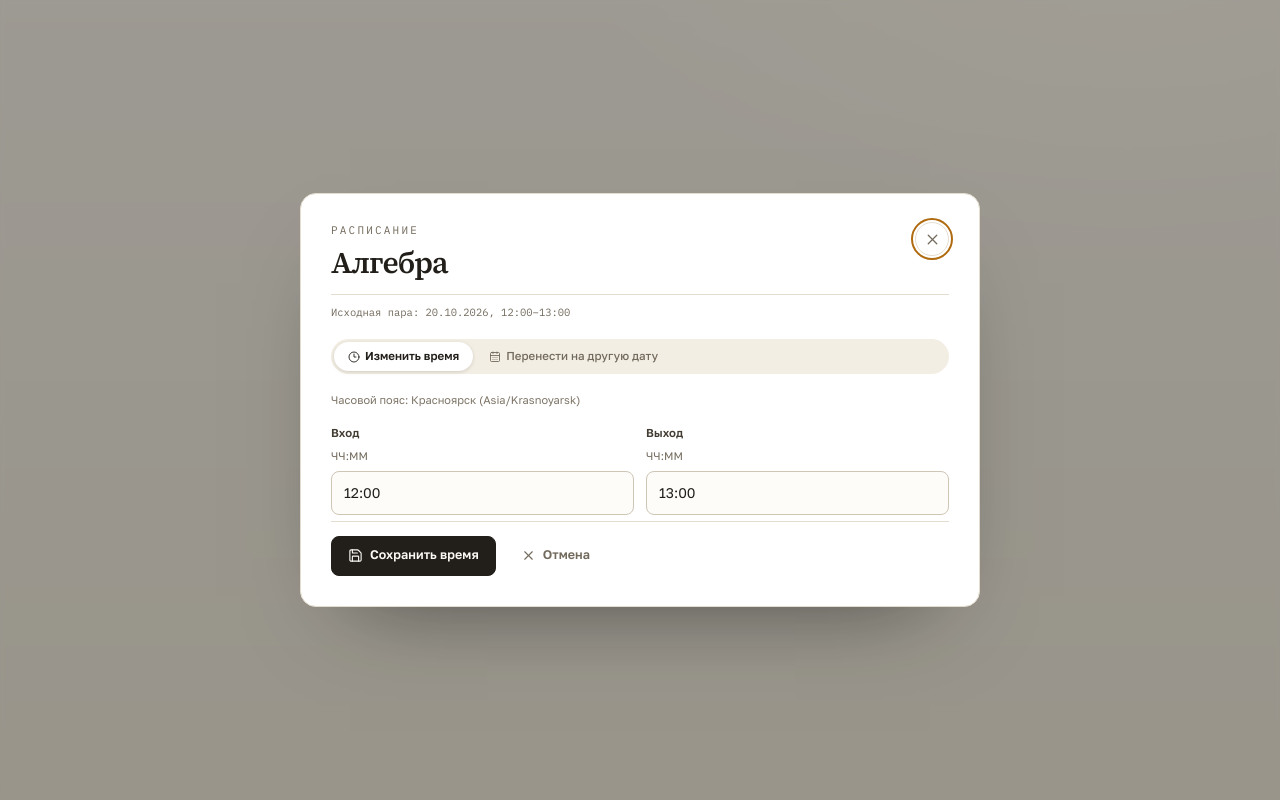
ScheduleEditor › moves to a new date and shows a field error for an invalid interval
Click the button "Перенести на другую дату" at x=574, y=357, box [475,342,672,371]
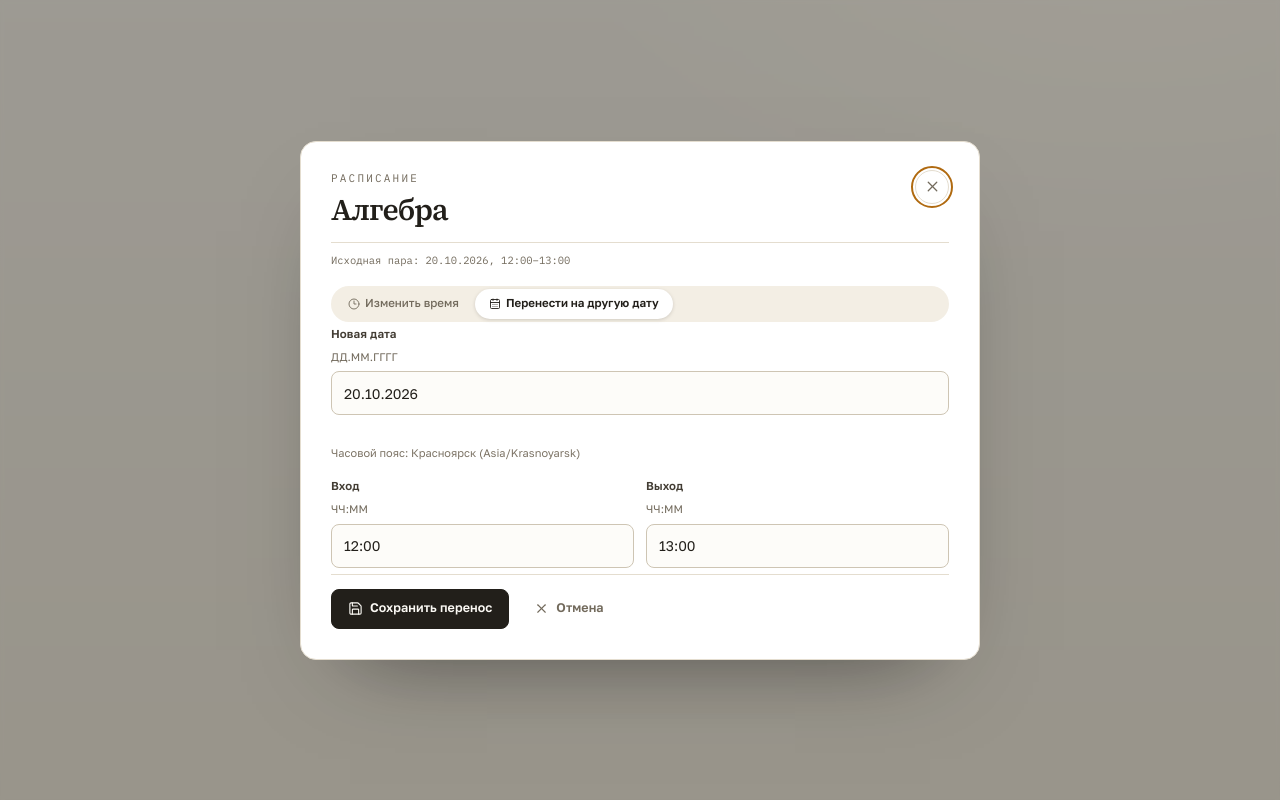
Replace the text in the field labelled "Новая дата" with "21.10.2026" at x=640, y=393, box [331,371,949,415]
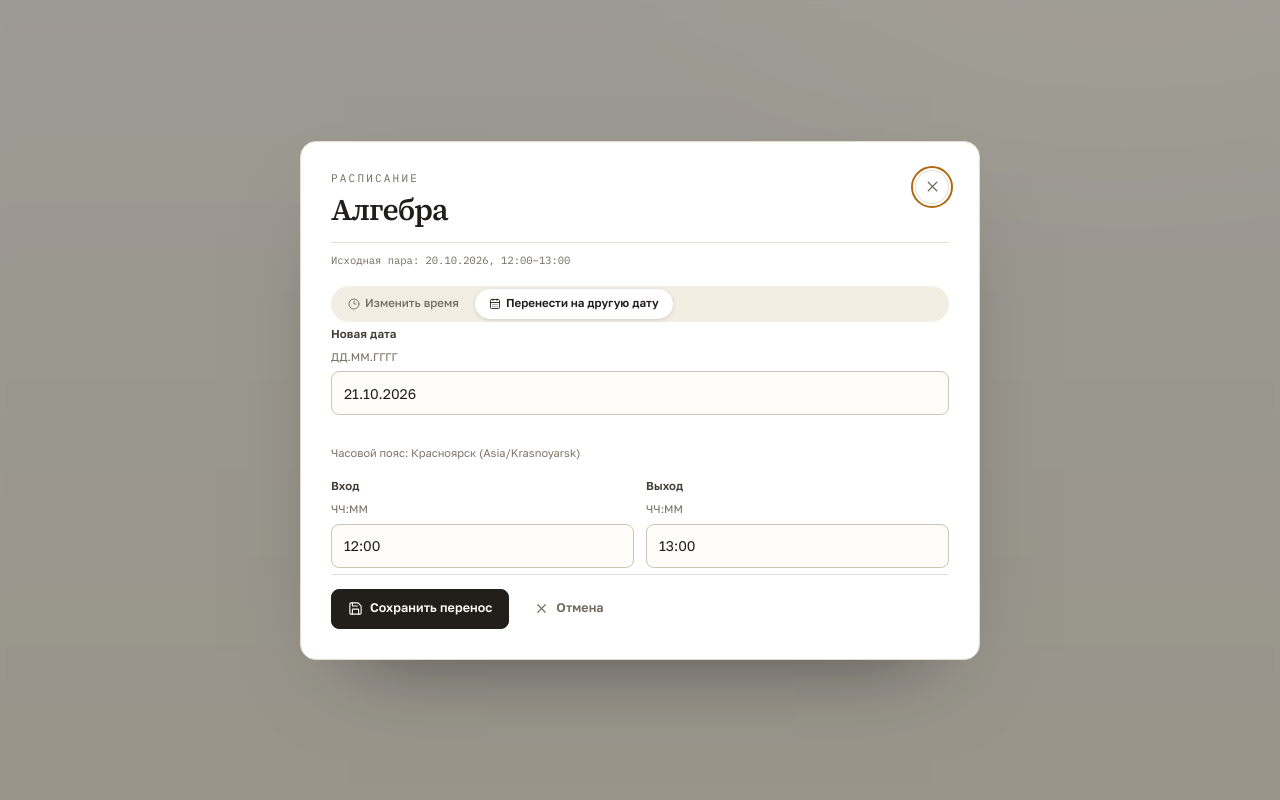
Replace the text in the field labelled "Выход" with "11:00" at x=798, y=546, box [646,524,949,568]
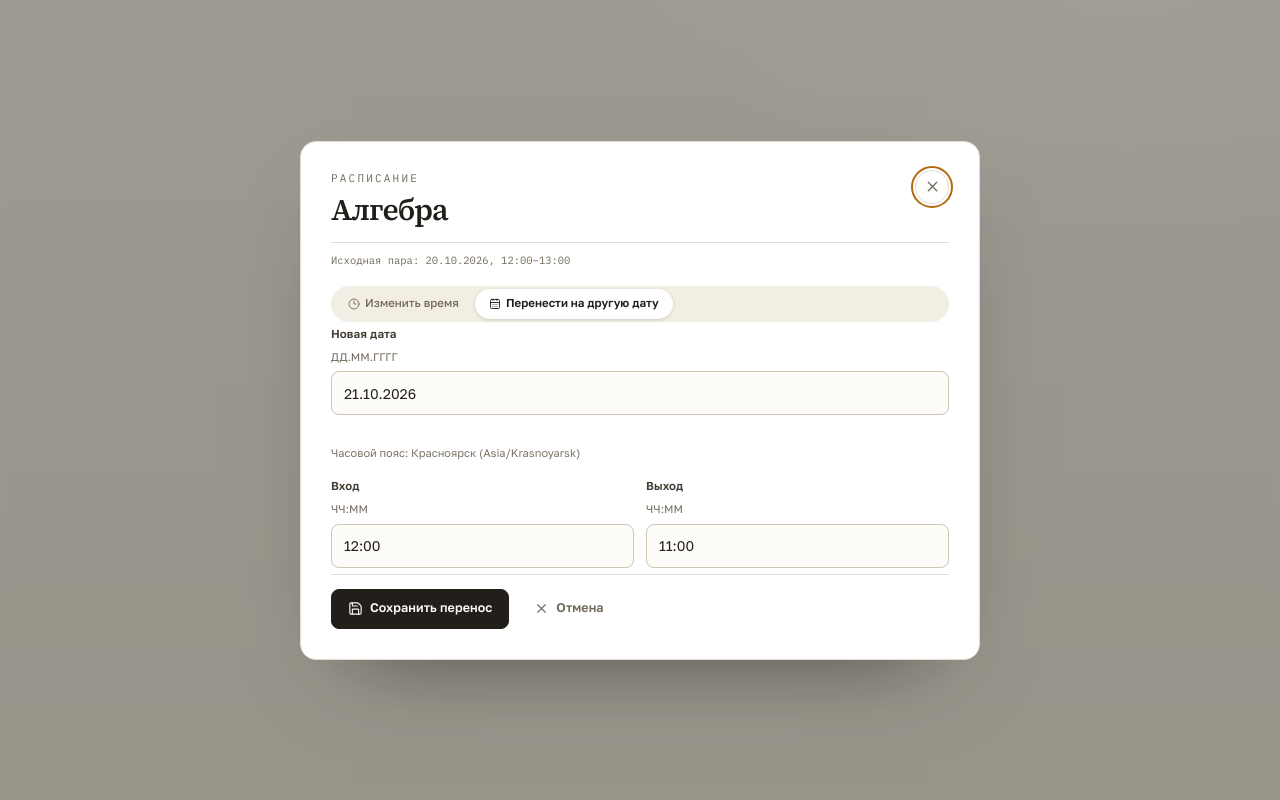
Click the button "Сохранить перенос" at x=420, y=608, box [331,588,509,628]
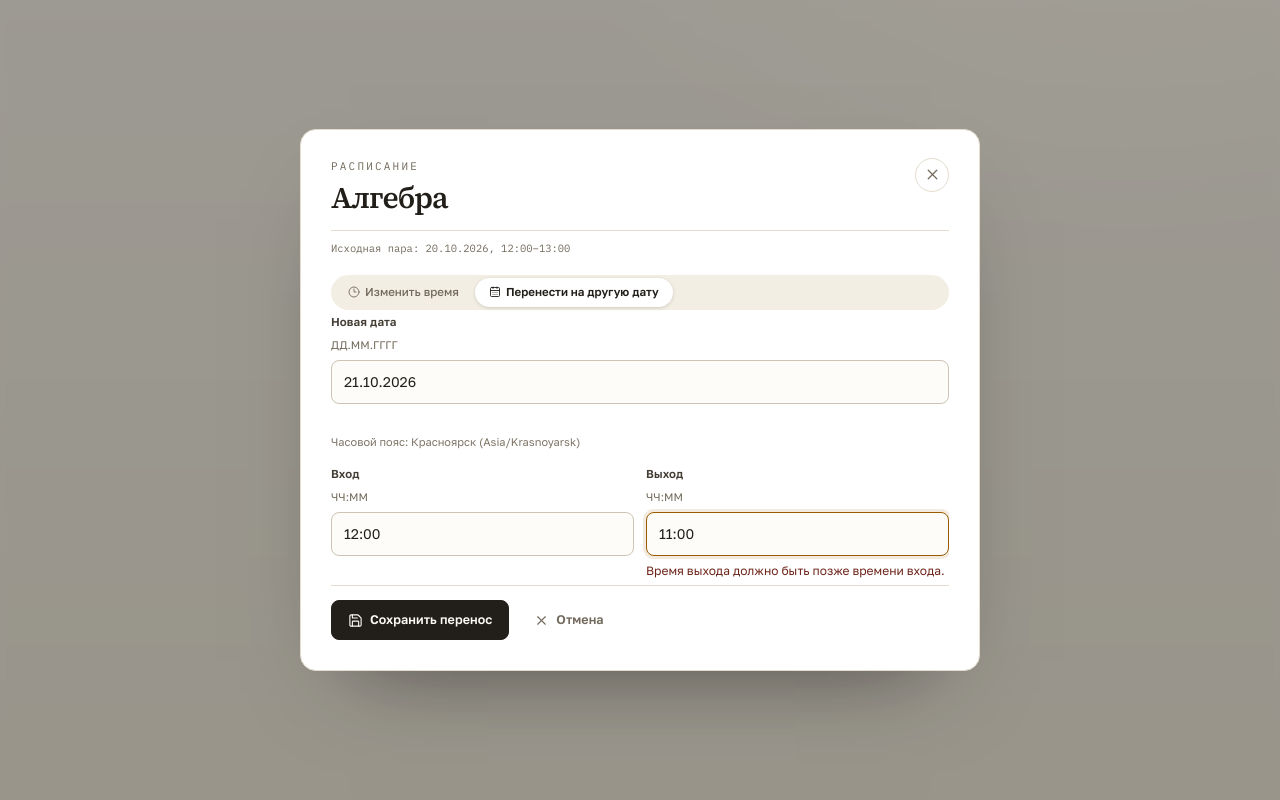
Now the text "Время выхода должно быть позже времени входа." is shown, box [646,562,949,579]
